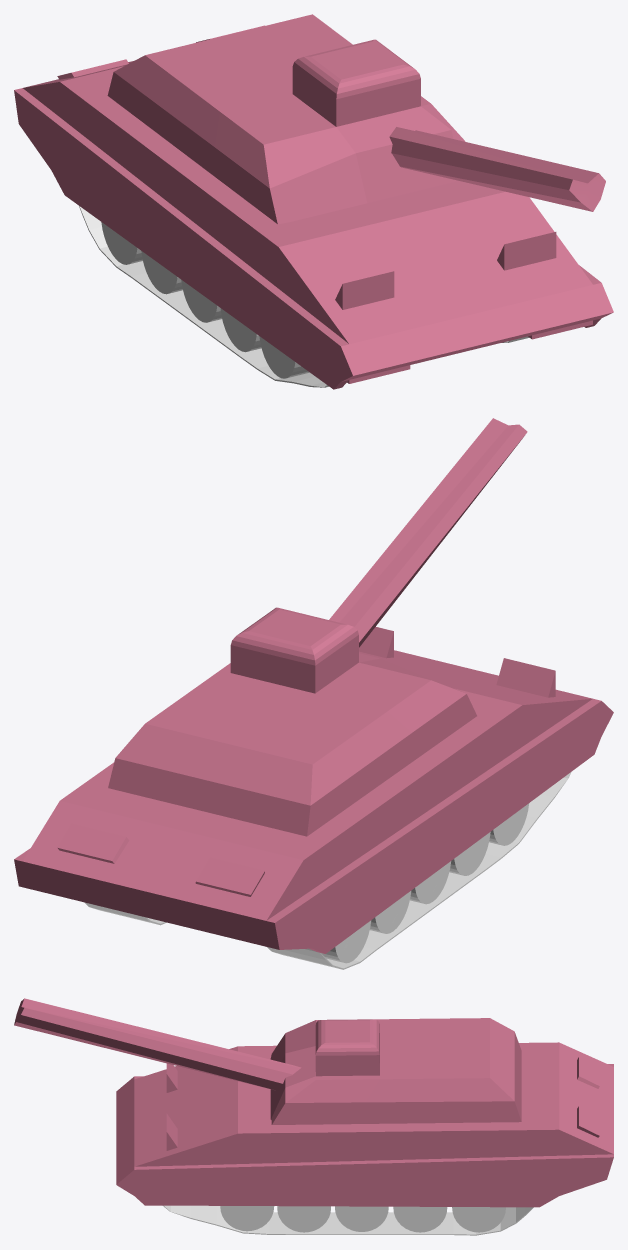
Rendered from Tank.fbx.
The picture shows the model from 3 angles, top to bottom: view 1: azimuth 30°, elevation 25°; view 2: azimuth 150°, elevation 25°; view 3: azimuth 270°, elevation 25°; orthographic projection. The views are drawn at different scales.
Visible parts, largest first — view 1: Cube.017, Cube.014, Cylinder.005, Cylinder.002, Plane.003, Cube.006; view 2: Cube.017, Cube.014, Cylinder.005, Cylinder.002, Plane.003, Cube.007, Cube.006; view 3: Cube.017, Cube.014, Cylinder.005, Cylinder.001, Plane, Cube.007, Cube.006.
Boxes of the visible parts, box(x1,y1,x2,y2) form: Cube.017: box(14, 61, 613, 389); Cube.014: box(107, 14, 465, 224); Cylinder.005: box(389, 127, 605, 211); Cylinder.002: box(101, 222, 309, 378); Plane.003: box(79, 206, 328, 387); Cube.006: box(335, 232, 556, 309); Cube.017: box(14, 650, 613, 953); Cube.014: box(108, 607, 476, 836); Cylinder.005: box(329, 418, 527, 647); Cylinder.002: box(321, 803, 529, 963); Plane.003: box(267, 772, 571, 969); Cube.007: box(57, 823, 264, 896); Cube.006: box(359, 627, 555, 697); Cube.017: box(116, 1042, 613, 1207); Cube.014: box(270, 1018, 521, 1124); Cylinder.005: box(14, 998, 301, 1090); Cylinder.001: box(220, 1206, 505, 1232); Plane: box(163, 1205, 533, 1235); Cube.007: box(577, 1056, 599, 1137); Cube.006: box(166, 1063, 177, 1150).
Bounding box in the file's own units: 214 × 217 × 581.
